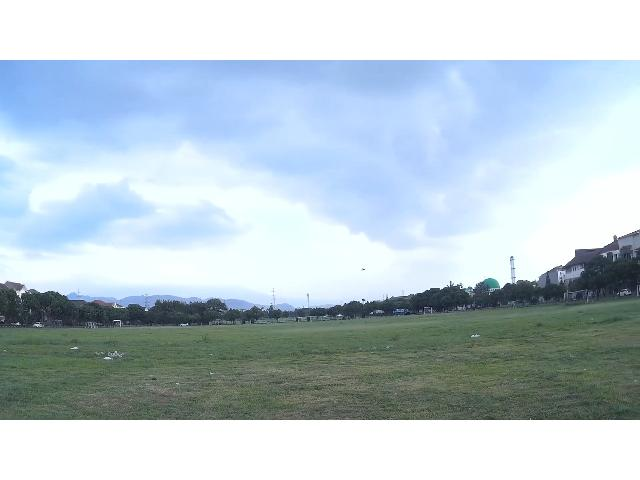Anti-Drone: (354, 262, 374, 280)
